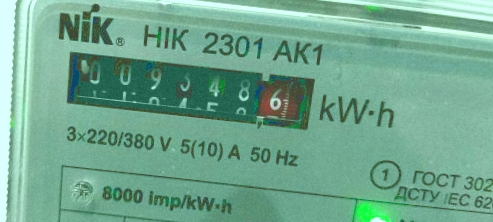0: (85, 59, 104, 87), (116, 59, 133, 87)
3: (177, 67, 194, 93)
4: (203, 68, 225, 100)
6: (265, 83, 285, 113)
8: (235, 74, 253, 104)
9: (147, 66, 164, 94)
screen: (45, 35, 330, 143)
